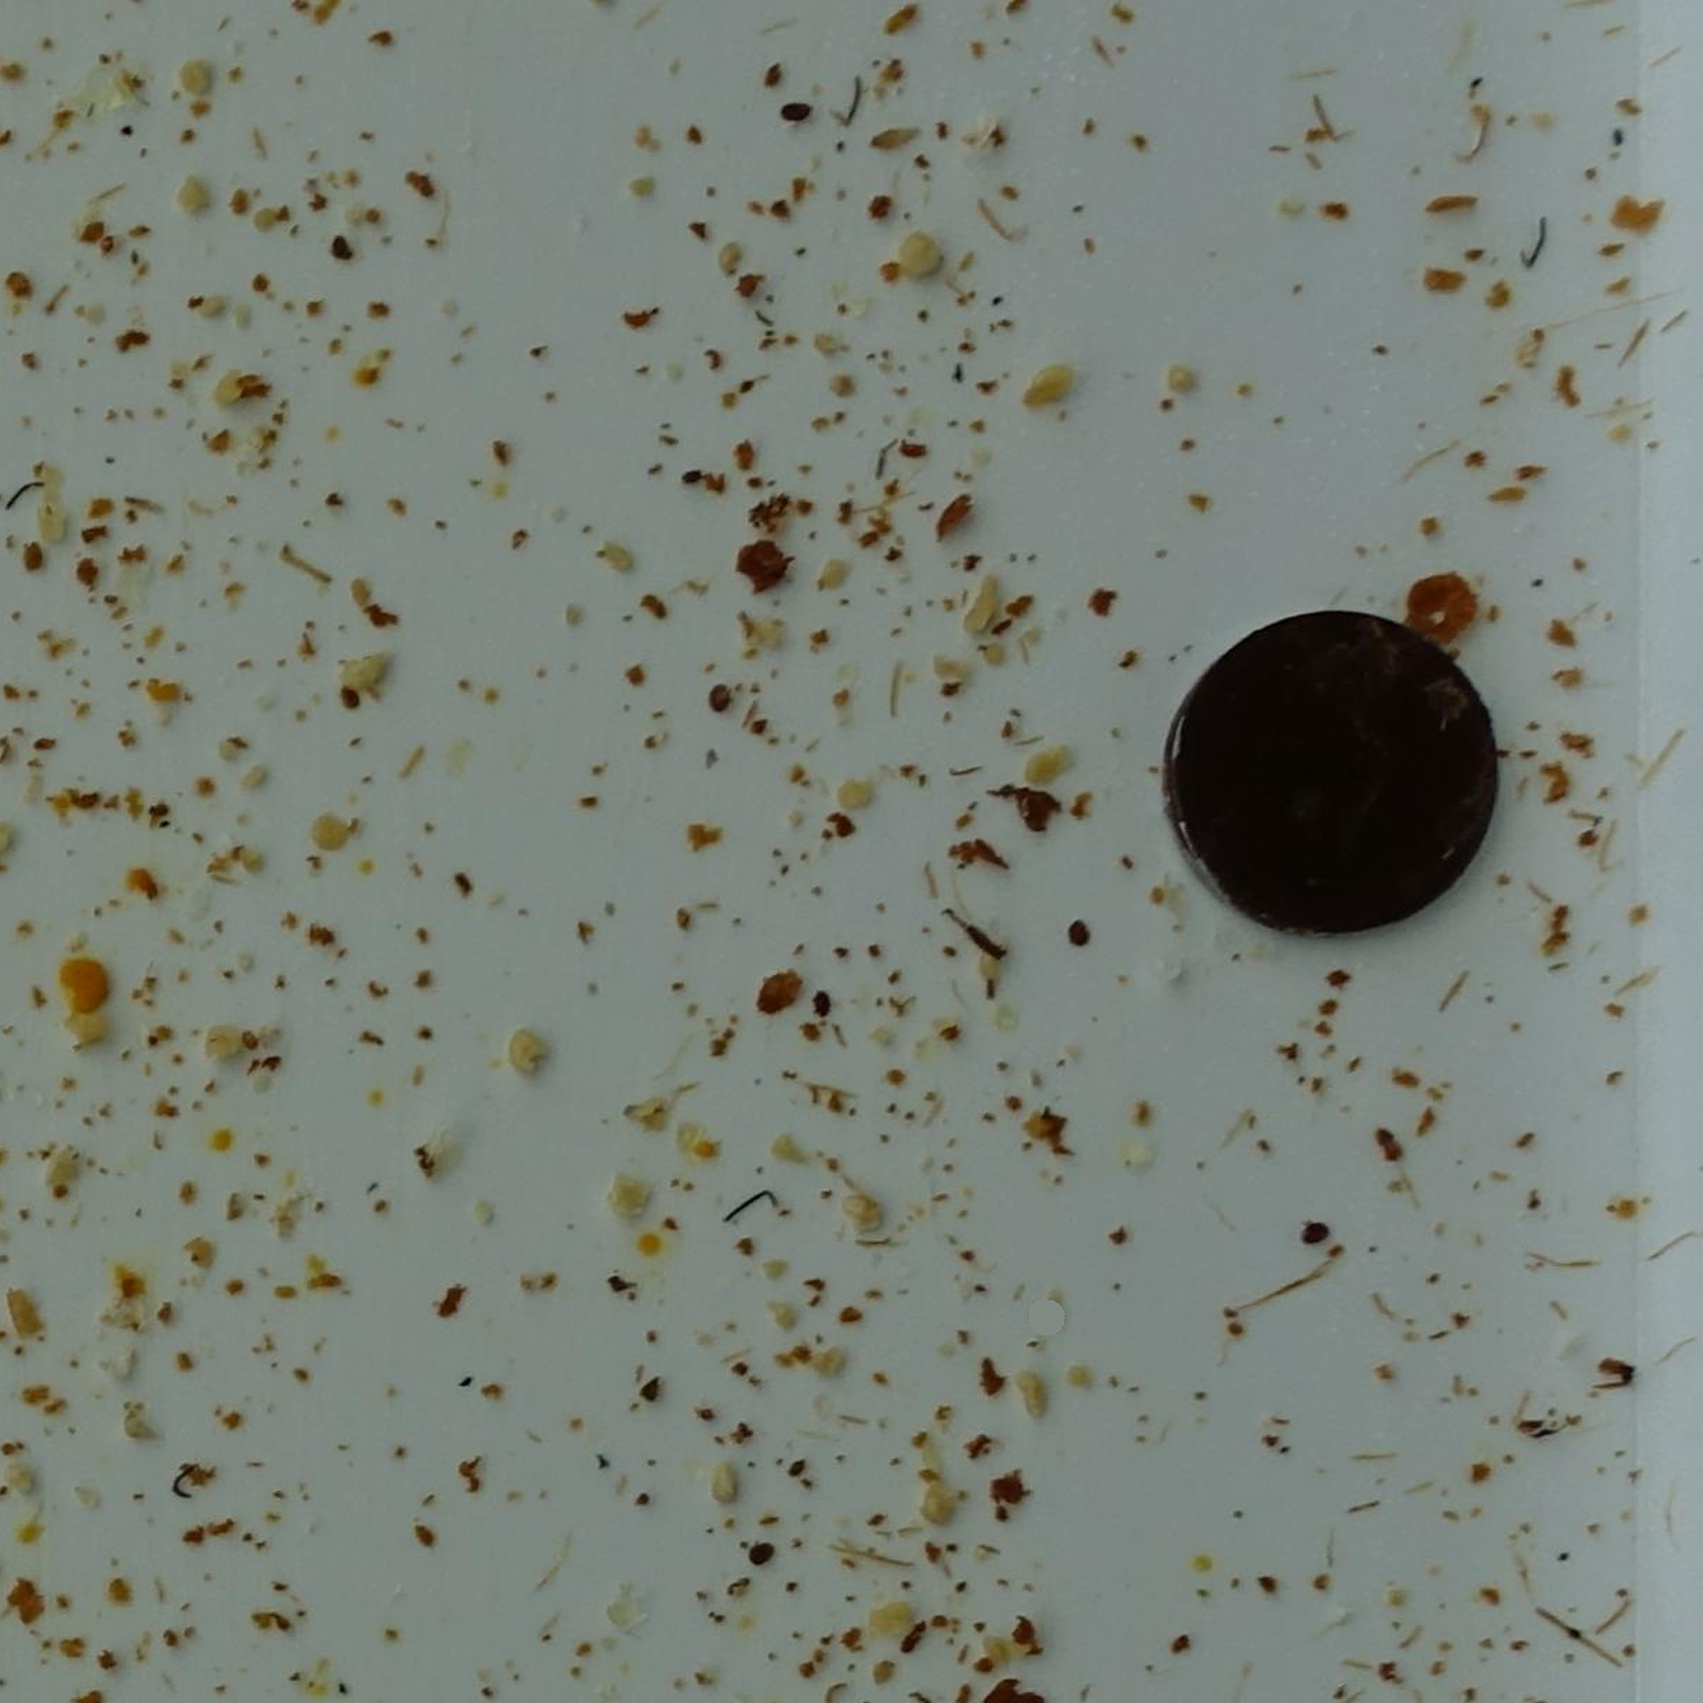Varroa: (800, 982, 844, 1025), (1304, 1213, 1333, 1244), (1064, 922, 1092, 951), (784, 97, 809, 125), (747, 1553, 774, 1578), (752, 1531, 774, 1555), (710, 686, 731, 708)
